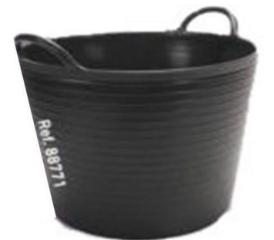SEAU: (6, 5, 274, 238)
